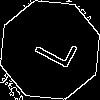L: (25, 25, 78, 71)
